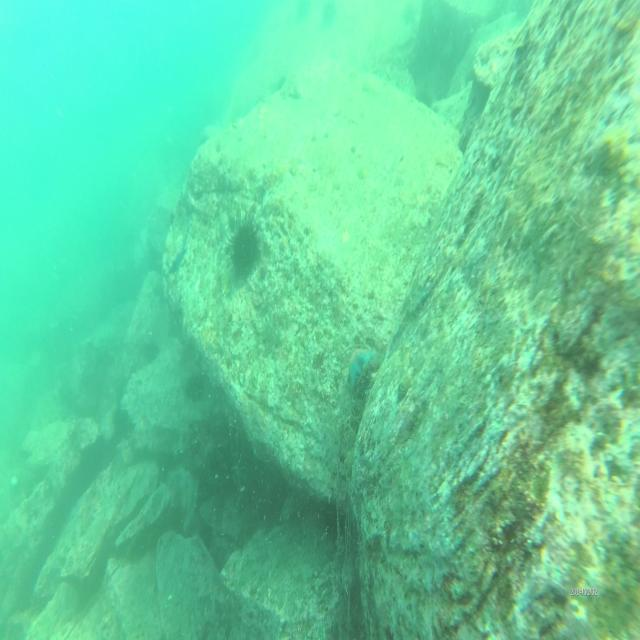echinus: (227, 210, 261, 286), (111, 404, 135, 440), (183, 374, 206, 402)
starfish: (344, 346, 374, 389)
